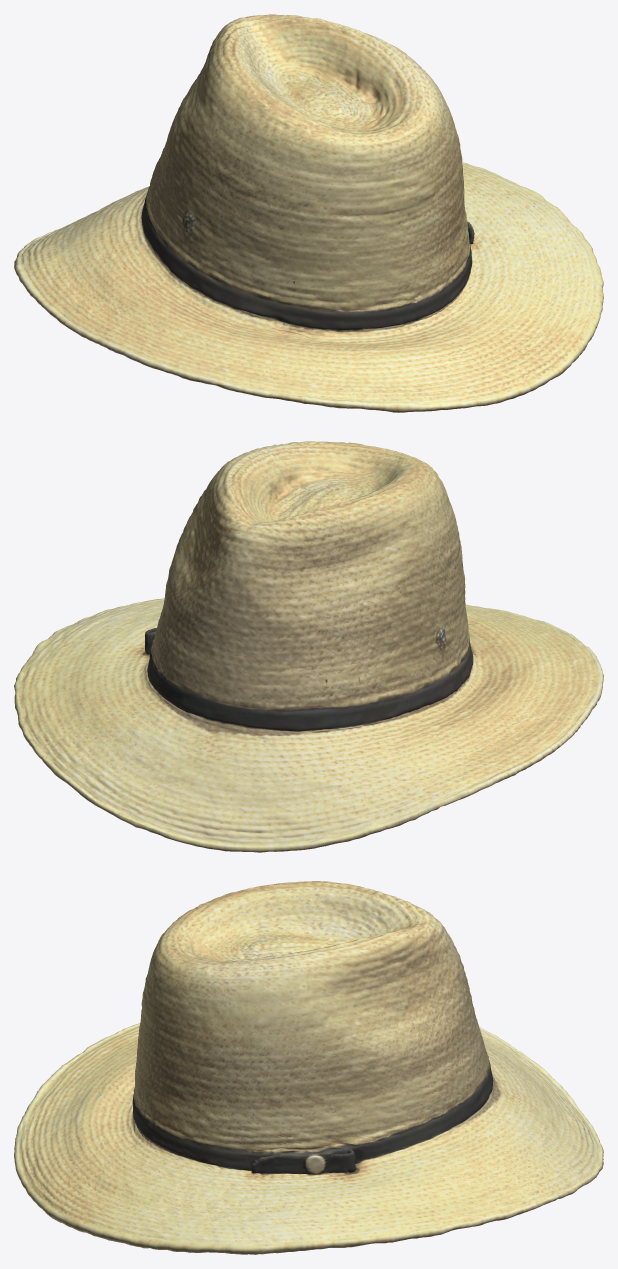
File: hat2.glb
The picture shows the model from 3 angles, top to bottom: view 1: azimuth 30°, elevation 25°; view 2: azimuth 150°, elevation 25°; view 3: azimuth 270°, elevation 25°; orthographic projection. The views are drawn at different scales.
Visible parts, largest first — view 1: HK_Hat_Two_Hina_03v01HK_Hat_Two_Hina_Remesh1_3; view 2: HK_Hat_Two_Hina_03v01HK_Hat_Two_Hina_Remesh1_3; view 3: HK_Hat_Two_Hina_03v01HK_Hat_Two_Hina_Remesh1_3.
Boxes of the visible parts, box(x1,y1,x2,y2) form: HK_Hat_Two_Hina_03v01HK_Hat_Two_Hina_Remesh1_3: box(14, 14, 603, 412); HK_Hat_Two_Hina_03v01HK_Hat_Two_Hina_Remesh1_3: box(14, 441, 603, 852); HK_Hat_Two_Hina_03v01HK_Hat_Two_Hina_Remesh1_3: box(14, 881, 603, 1254).
Size of the model in its own units: 3.36 by 1.64 by 3.53.
Materials: 1 (1 with a texture image).
